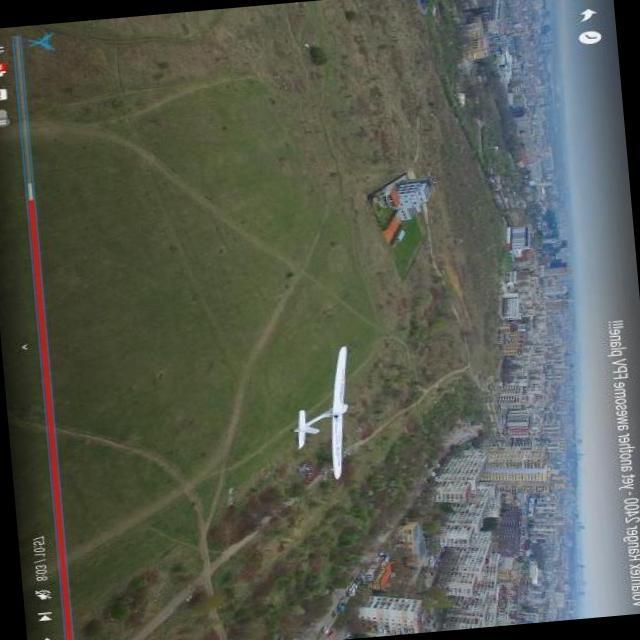iha: (320, 404, 355, 439)
